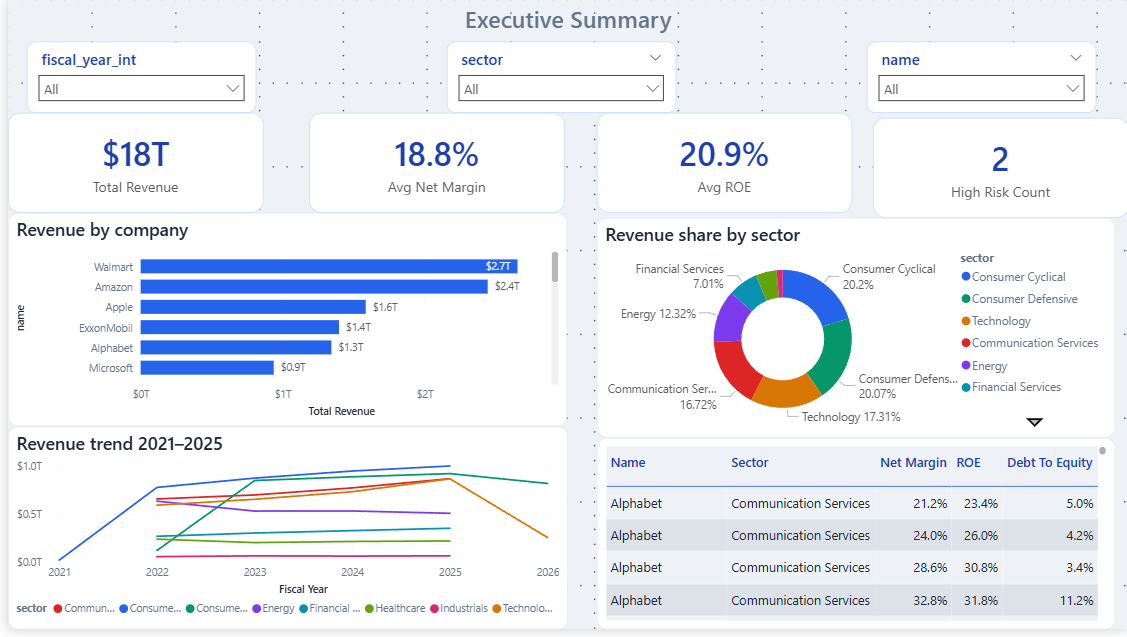

The dashboard page shown, as its layout file describes it:
{"tool":"powerbi","page":{"name":"Executive summary","canvas":[1280,720],"ordinal":0},"visuals":[{"type":"card","fields":{"Values":["Dax_Measure.Total Revenue"]},"box":[0,129.9,291.9,114.8],"z":0,"group":"g1"},{"type":"barChart","title":"Revenue by company","fields":{"Category":["public companies.name"],"Y":["Dax_Measure.Total Revenue"]},"box":[0,244.2,639.5,244.2],"z":0},{"type":"slicer","fields":{"Values":["public financials.fiscal_year_int"]},"box":[21.2,48,262.6,81.9],"z":1000,"group":"g2"},{"type":"group","id":"g1","title":"Group 1","box":[0,129.9,1280.5,120],"z":1000},{"type":"card","fields":{"Values":["Dax_Measure.High Risk Count"]},"box":[988.6,135.1,291.9,114.8],"z":1000,"group":"g1"},{"type":"group","id":"g2","title":"Group 2","box":[21.2,48,1222.6,81.9],"z":2000},{"type":"slicer","fields":{"Values":["public companies.sector"]},"box":[501.4,48,262.2,81.9],"z":2000,"group":"g2"},{"type":"card","fields":{"Values":["Dax_Measure.Avg ROE"]},"box":[673.4,129.9,291.9,114.8],"z":2000,"group":"g1"},{"type":"slicer","fields":{"Values":["public companies.name"]},"box":[981.2,48,262.6,81.9],"z":3000,"group":"g2"},{"type":"card","fields":{"Values":["Dax_Measure.Avg Net Margin"]},"box":[344.8,129.9,291.9,114.8],"z":3000,"group":"g1"},{"type":"donutChart","title":"Revenue share by sector","fields":{"Category":["public companies.sector"],"Y":["Dax_Measure.Total Revenue"]},"box":[673.4,249.9,592.9,251.3],"z":3000},{"type":"lineChart","title":"Revenue trend 2021–2025","fields":{"Category":["public financials.fiscal_year_int"],"Y":["Dax_Measure.Total Revenue"],"Series":["public companies.sector"]},"box":[0,488.3,640,231.7],"z":5000},{"type":"tableEx","fields":{"Values":["public companies.name","public companies.sector","public financials.net_margin","public financials.roe","public financials.debt_to_equity"]},"box":[673.4,501.2,592.9,218.8],"z":6000},{"type":"textbox","box":[0,0,1280.5,59.3],"z":7000}]}

Visuals, with their boxes in screenshot pixels (x1, y1, x2, y2), scaled from the page's 1280x720 canvas onto the 1127x637 screenshot:
card - Dax_Measure.Total Revenue: locate(0, 115, 257, 216)
"Revenue by company" barChart: locate(0, 216, 563, 432)
slicer - public financials.fiscal_year_int: locate(19, 42, 250, 115)
"Group 1" group: locate(0, 115, 1126, 221)
card - Dax_Measure.High Risk Count: locate(870, 120, 1126, 221)
"Group 2" group: locate(19, 42, 1095, 115)
slicer - public companies.sector: locate(441, 42, 672, 115)
card - Dax_Measure.Avg ROE: locate(593, 115, 850, 216)
slicer - public companies.name: locate(864, 42, 1095, 115)
card - Dax_Measure.Avg Net Margin: locate(304, 115, 561, 216)
"Revenue share by sector" donutChart: locate(593, 221, 1115, 443)
"Revenue trend 2021–2025" lineChart: locate(0, 432, 564, 636)
tableEx - public companies.name x public companies.sector: locate(593, 443, 1115, 636)
textbox: locate(0, 0, 1126, 52)
